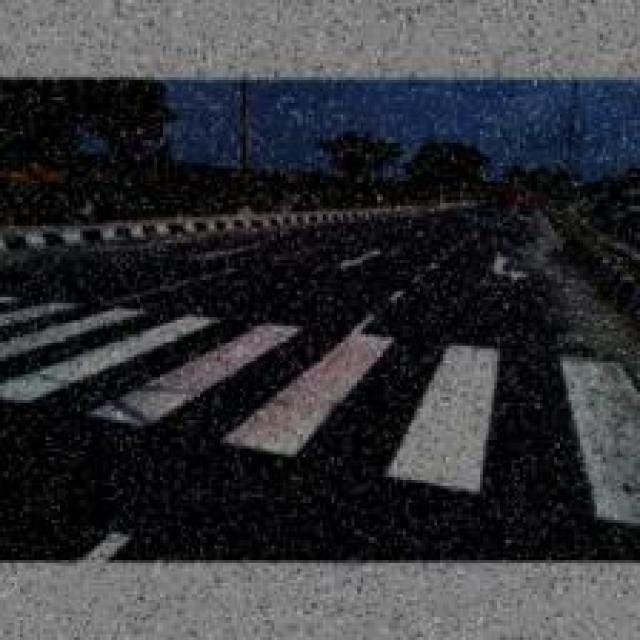walk-crossing: (0, 283, 637, 537)
